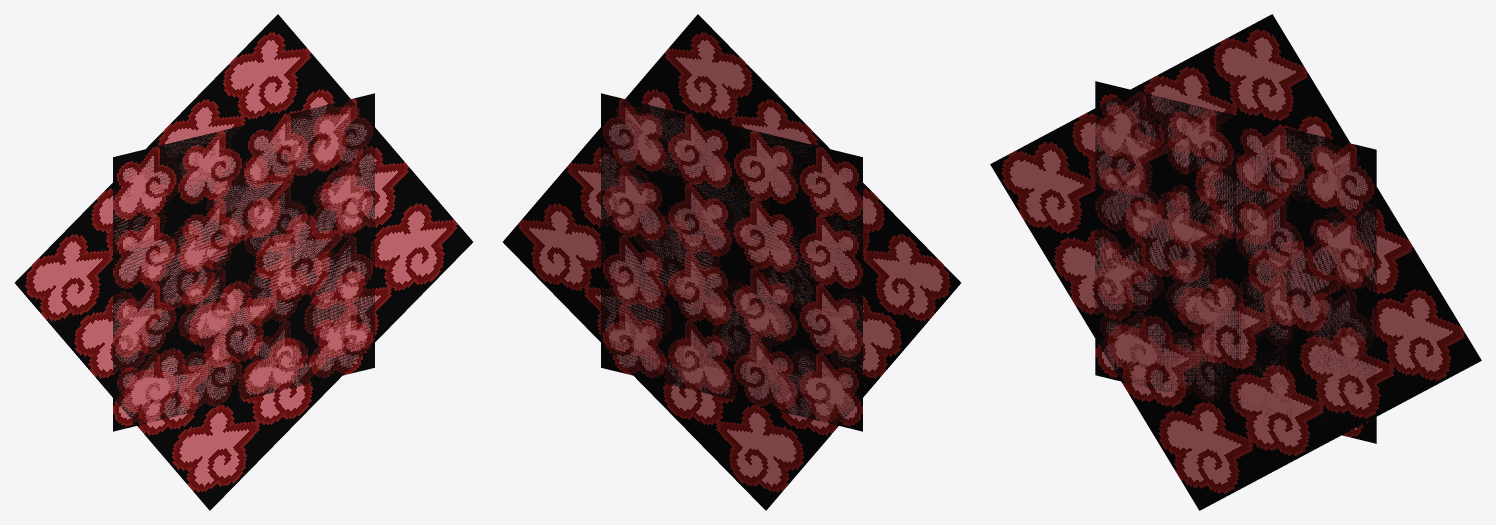
The picture shows the model from 3 angles, left to right: view 1: azimuth 30°, elevation 25°; view 2: azimuth 150°, elevation 25°; view 3: azimuth 330°, elevation 25°; orthographic projection. The views are drawn at different scales.
Parts seen in each view (by area): view 1: ef_016; view 2: ef_016; view 3: ef_016.
Part boxes in pixels (box(x1,y1,x2,y2)): ef_016: box(15, 14, 472, 510); ef_016: box(503, 14, 960, 510); ef_016: box(990, 14, 1481, 510).
Size of the model in its own units: 1.4 by 1.4 by 0.
Materials: 1 (1 with a texture image).
